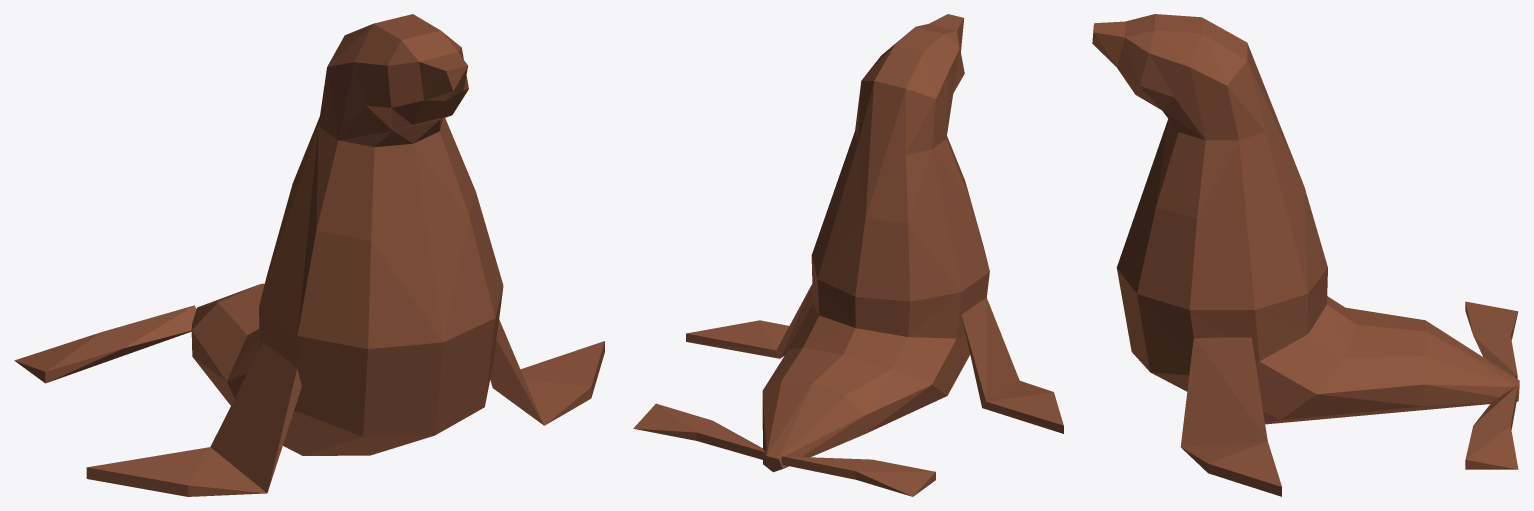
The model's file is Seal_01.FBX.
3 views of the same model, side by side, from view 1: azimuth 30°, elevation 25°; view 2: azimuth 150°, elevation 25°; view 3: azimuth 270°, elevation 25° (orthographic). The views are drawn at different scales.
Visible parts, largest first — view 1: Seal_003; view 2: Seal_003; view 3: Seal_003.
Boxes of the visible parts, x1,y1,x2,y2 form: Seal_003: (14,14,604,496); Seal_003: (633,14,1063,496); Seal_003: (1092,14,1519,496).
Size of the model in its own units: 46.85 by 39.51 by 39.59.
